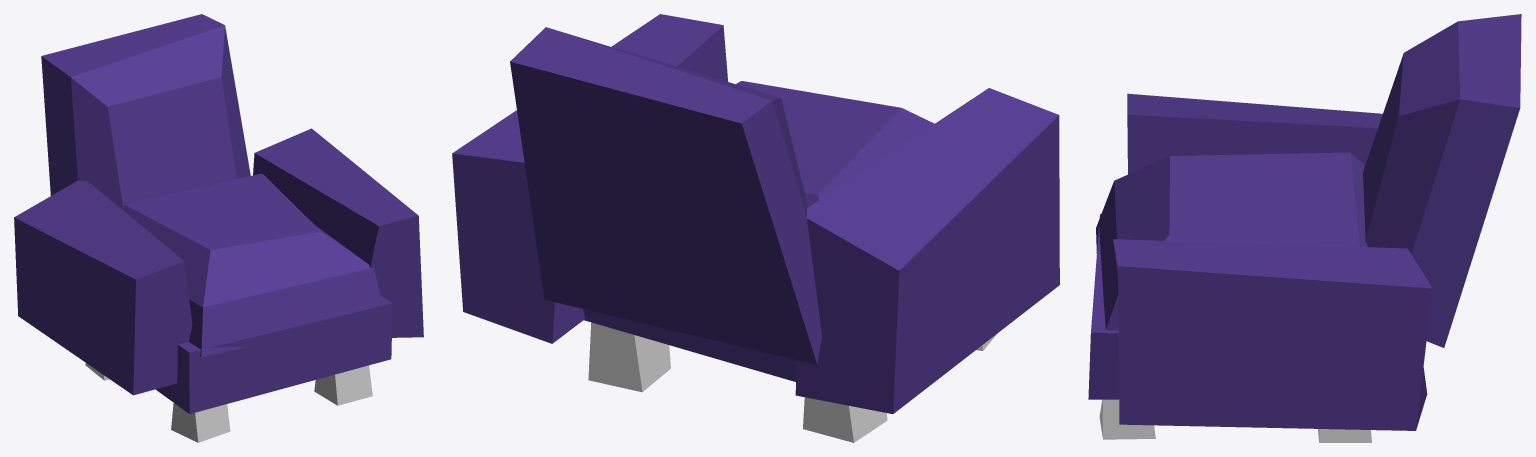
File: sofa_test.fbx
3 views of the same model, side by side, from view 1: azimuth 30°, elevation 25°; view 2: azimuth 150°, elevation 25°; view 3: azimuth 270°, elevation 25° (orthographic). The views are drawn at different scales.
Visible parts, largest first — view 1: sofa; view 2: sofa; view 3: sofa.
Boxes of the visible parts, x1,y1,x2,y2 form: sofa: [14, 14, 423, 442]; sofa: [452, 14, 1059, 442]; sofa: [1088, 14, 1521, 442].
Bounding box in the file's own units: 113 × 96.67 × 112.
